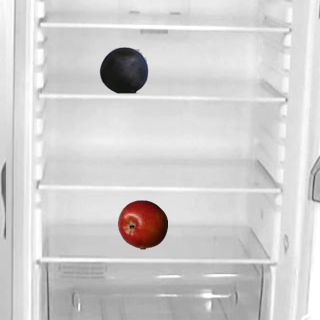Apple Braeburn: (117, 199, 167, 249)
Grape Blue: (98, 44, 148, 94)
